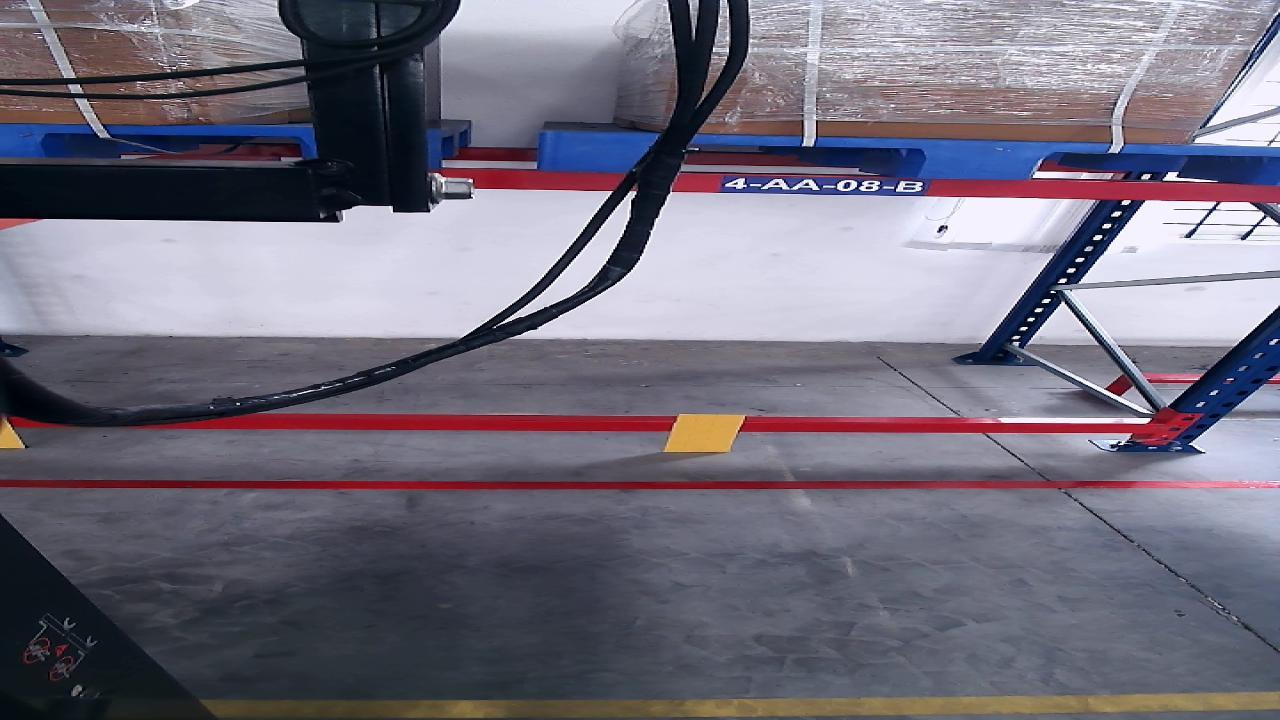h_rack: (444, 170, 1277, 202), (155, 419, 1159, 433)
orange_strip: (667, 415, 746, 451)
red_line: (3, 479, 1276, 487)
small_pallet: (542, 131, 1276, 184)
yellow_line: (209, 689, 1280, 715)
